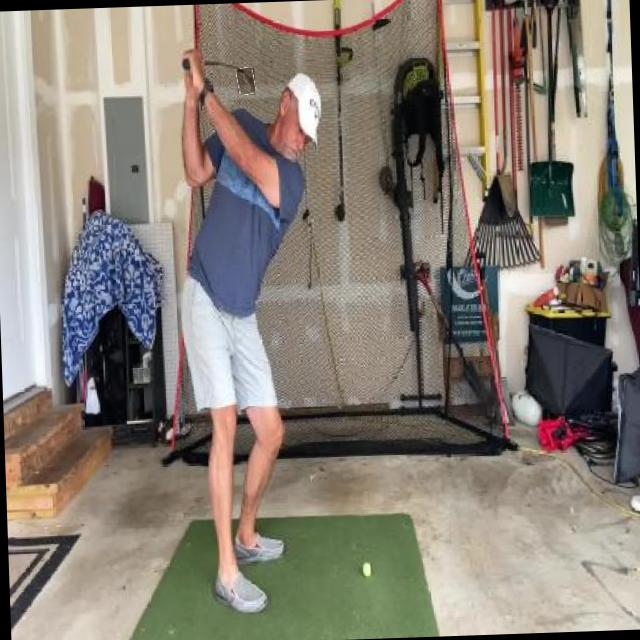club head: (236, 67, 255, 95)
